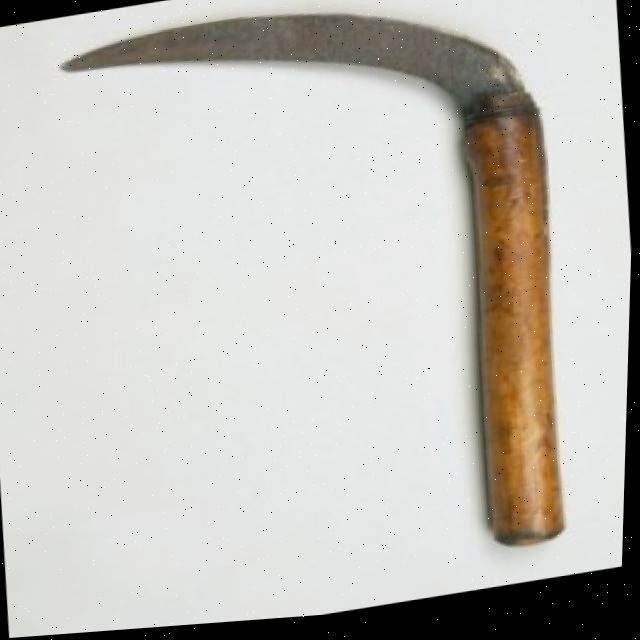sickle: (48, 0, 621, 636)
